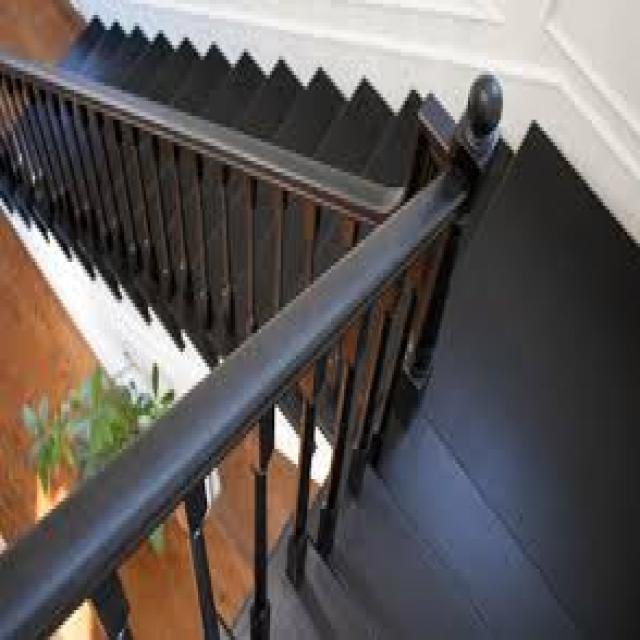stair: (0, 12, 553, 448)
